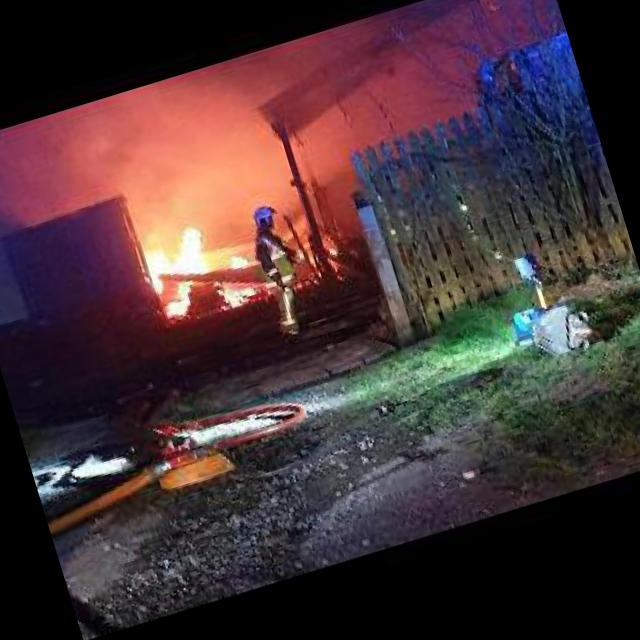fire: (132, 220, 222, 324), (218, 276, 258, 310), (229, 247, 258, 269)
